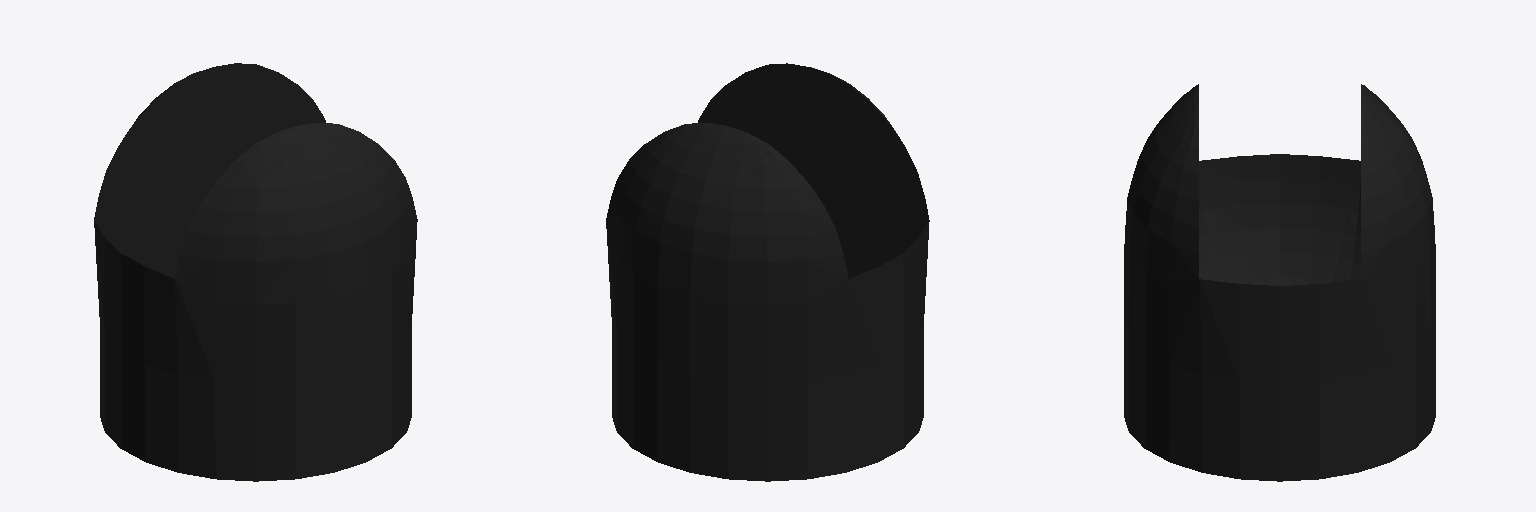
The model's file is Tr-LeverBaseY.obj.
3 renders of one model, left to right at view 1: azimuth 30°, elevation 25°; view 2: azimuth 150°, elevation 25°; view 3: azimuth 270°, elevation 25°, orthographic.
Visible parts, largest first — view 1: Tr-LeverBaseY_BaseLevier.002; view 2: Tr-LeverBaseY_BaseLevier.002; view 3: Tr-LeverBaseY_BaseLevier.002.
Part boxes in pixels (left/top/right/bottom): Tr-LeverBaseY_BaseLevier.002: left=94, top=63, right=417, bottom=481; Tr-LeverBaseY_BaseLevier.002: left=606, top=63, right=929, bottom=481; Tr-LeverBaseY_BaseLevier.002: left=1124, top=84, right=1435, bottom=481.
Bounding box in the file's own units: 0.0725 × 0.0816 × 0.0725.